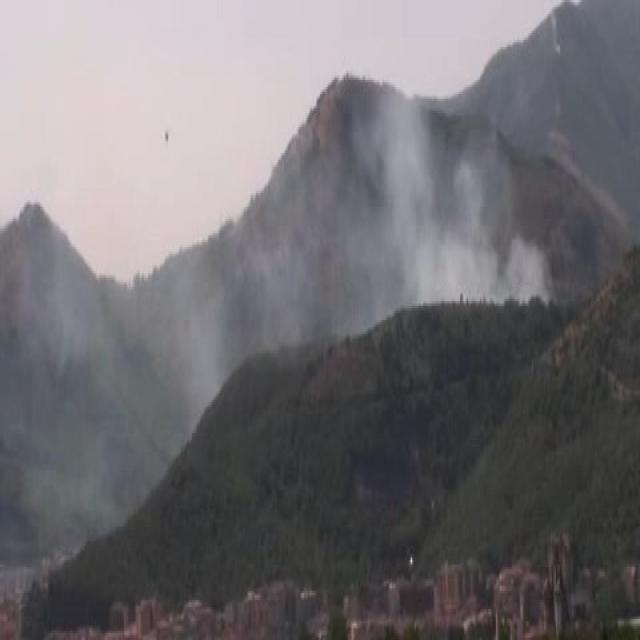smoke: (334, 95, 545, 313)
